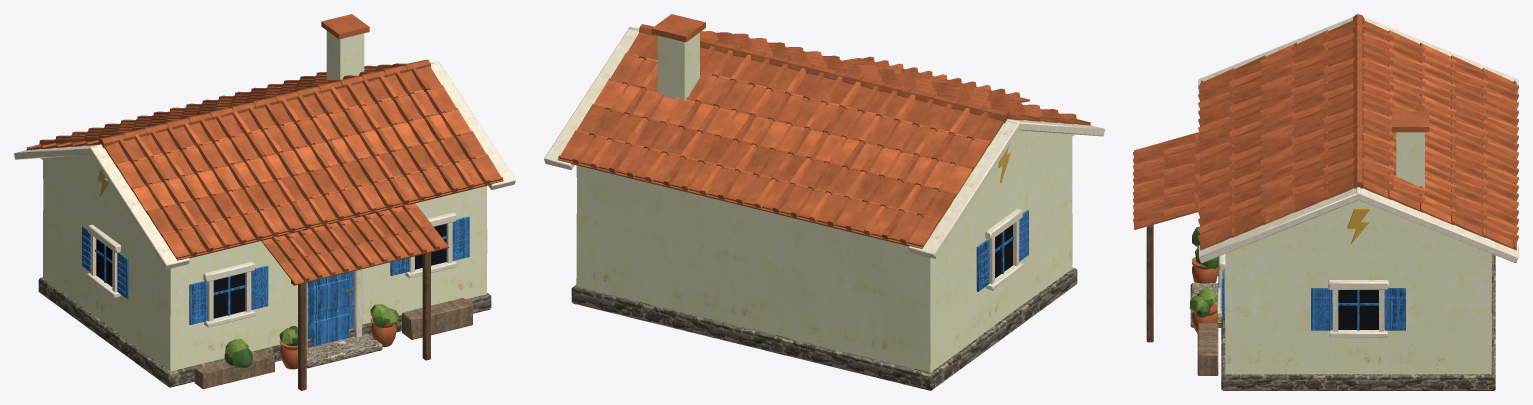
The model's file is home_cottage_t2.glb.
The picture shows the model from 3 angles, left to right: view 1: azimuth 30°, elevation 25°; view 2: azimuth 150°, elevation 25°; view 3: azimuth 270°, elevation 25°; orthographic projection. The views are drawn at different scales.
Parts seen in each view (by area): view 1: plaster, terracotta1, terracotta0, terracotta2, cream, azure_wood, stone_dark, wood, dark, wood_dark, stone, terracotta (+2 smaller); view 2: plaster, terracotta1, terracotta0, terracotta2, stone_dark, cream, azure_wood, dark; view 3: plaster, terracotta1, terracotta0, terracotta2, cream, stone_dark, azure_wood, dark, wood, wood_dark, terracotta, leaf.001 (+3 smaller).
Part boxes in pixels (box(x1,y1,x2,y2)): plaster: box(41, 31, 487, 371); terracotta1: box(26, 59, 503, 278); terracotta0: box(26, 14, 503, 285); terracotta2: box(42, 65, 488, 275); cream: box(14, 62, 515, 348); azure_wood: box(82, 216, 469, 346); stone_dark: box(38, 277, 491, 387); wood: box(194, 298, 472, 389); dark: box(96, 224, 446, 318); wood_dark: box(291, 252, 430, 390); stone: box(306, 333, 382, 368); terracotta: box(279, 317, 396, 369); plaster: box(576, 32, 1074, 372); terracotta1: box(558, 24, 1090, 246); terracotta0: box(558, 14, 1090, 248); terracotta2: box(575, 31, 1073, 235); stone_dark: box(571, 267, 1077, 390); cream: box(544, 27, 1104, 290); azure_wood: box(976, 210, 1028, 291); dark: box(995, 224, 1012, 278); plaster: box(1225, 132, 1491, 374); terracotta1: box(1133, 14, 1518, 248); terracotta0: box(1133, 31, 1518, 250); terracotta2: box(1133, 30, 1518, 236); cream: box(1198, 16, 1518, 337); stone_dark: box(1221, 254, 1495, 390); azure_wood: box(1221, 270, 1405, 330); dark: box(1338, 290, 1378, 329); wood: box(1197, 266, 1218, 375); wood_dark: box(1146, 225, 1153, 342); terracotta: box(1192, 257, 1218, 333); leaf.001: box(1189, 245, 1217, 312).
Bounding box in the file's own units: 7.3 × 4.66 × 6.67.
Materials: 16 (14 with a texture image).
